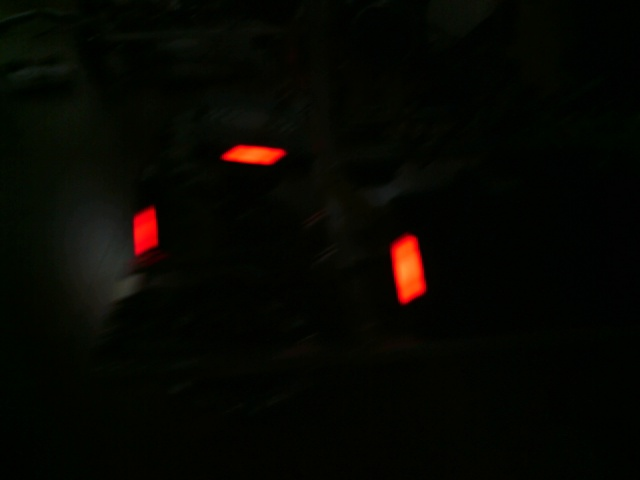lamp: (389, 232, 426, 305), (129, 205, 165, 255)
